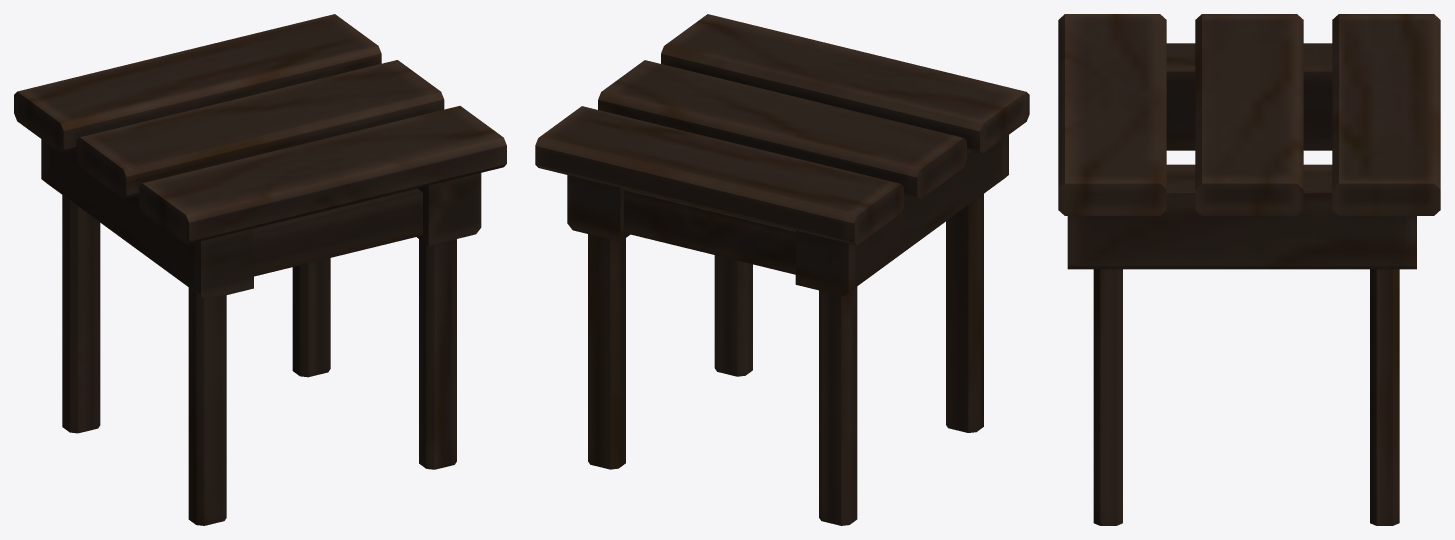
The model's file is ChairShort.FBX.
3 renders of one model, left to right at view 1: azimuth 30°, elevation 25°; view 2: azimuth 150°, elevation 25°; view 3: azimuth 270°, elevation 25°, orthographic. The views are drawn at different scales.
Visible parts, largest first — view 1: Chairshort; view 2: Chairshort; view 3: Chairshort.
Boxes of the visible parts, <box> form: Chairshort: <box>14,14,506,525</box>; Chairshort: <box>535,14,1029,525</box>; Chairshort: <box>1058,14,1440,525</box>.
Size of the model in its own units: 0.9868 by 0.9737 by 0.9402.
